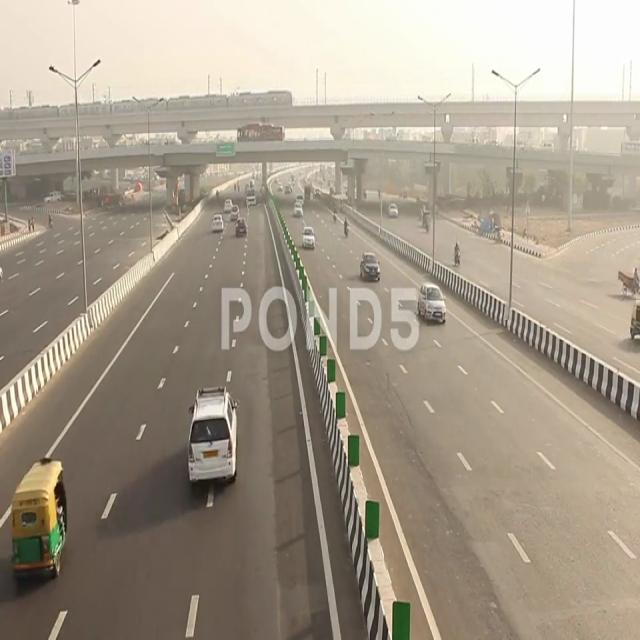car: (182, 380, 243, 487), (415, 278, 449, 334), (356, 252, 379, 290)
rikshaw: (5, 449, 74, 589)
